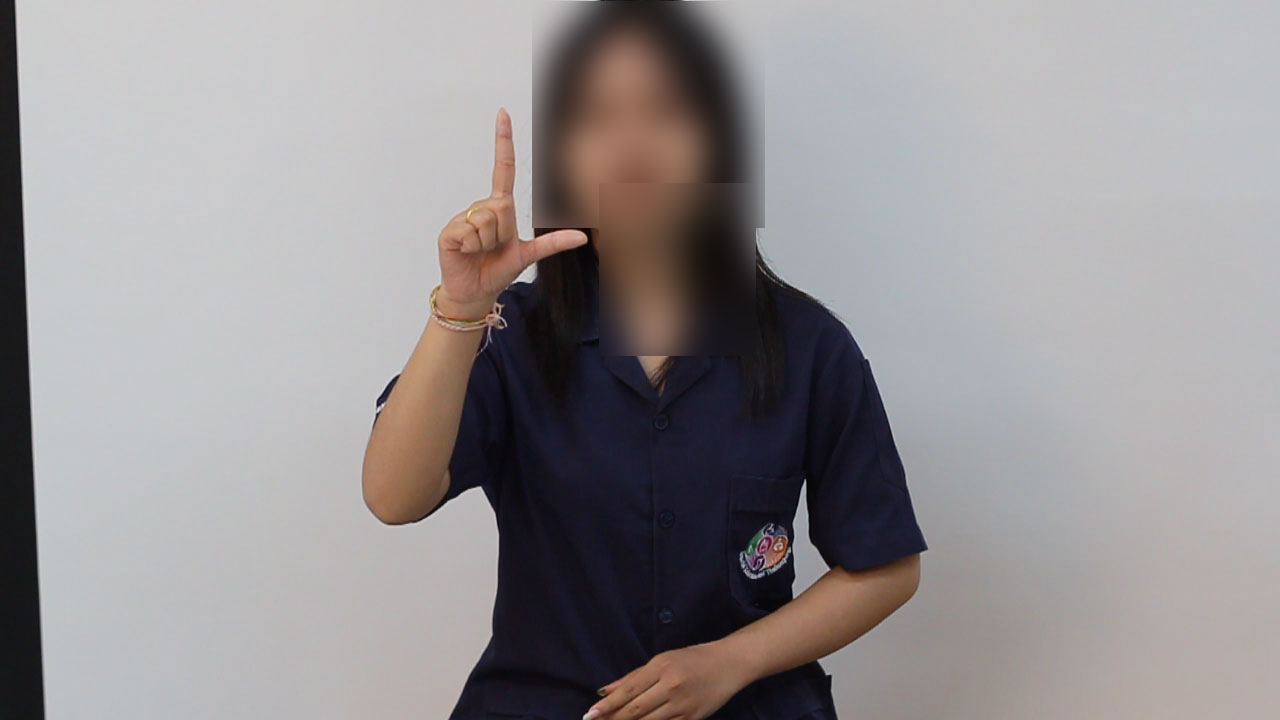lor: (389, 79, 600, 330)
